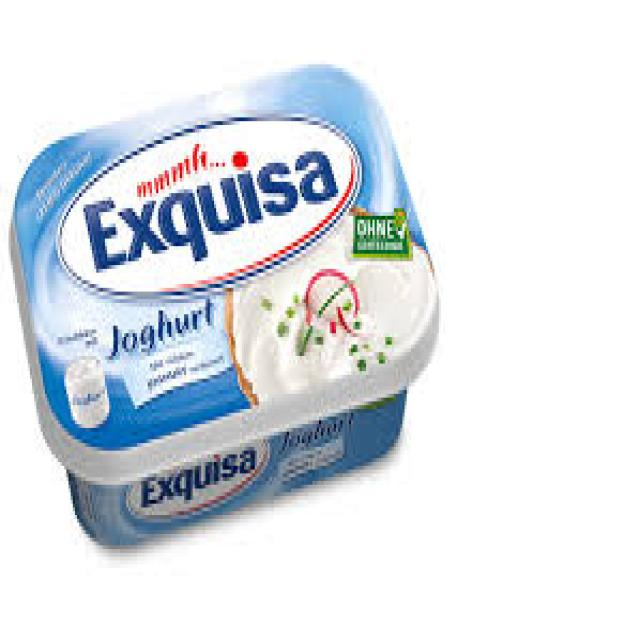plastic: (7, 61, 435, 545), (7, 64, 437, 485)
